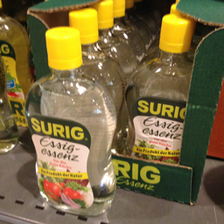vinegar: (23, 27, 116, 216), (130, 15, 204, 166)
